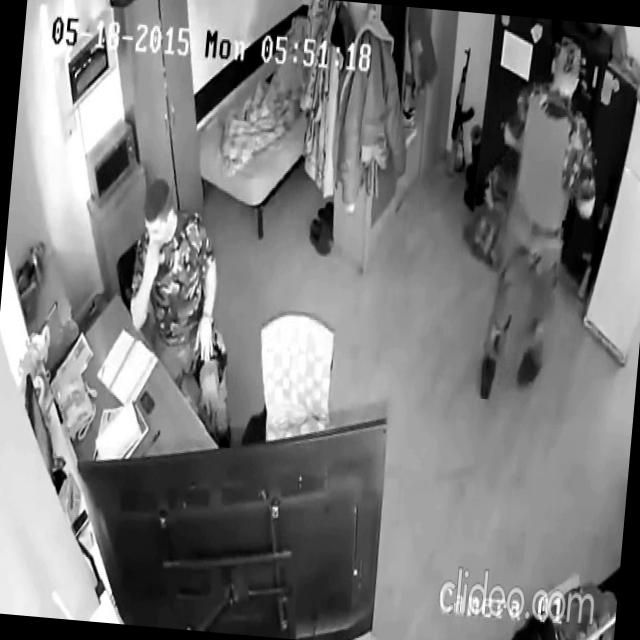gun: (446, 42, 481, 178)
person: (477, 34, 610, 410), (117, 175, 254, 452)
